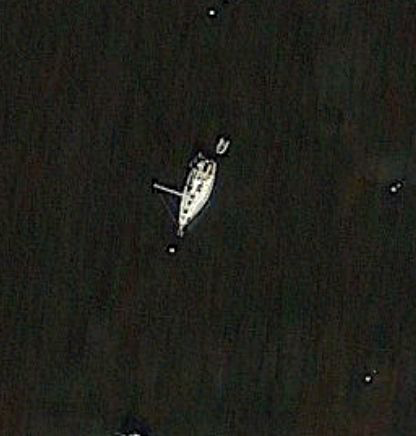boat: (153, 150, 221, 239)
